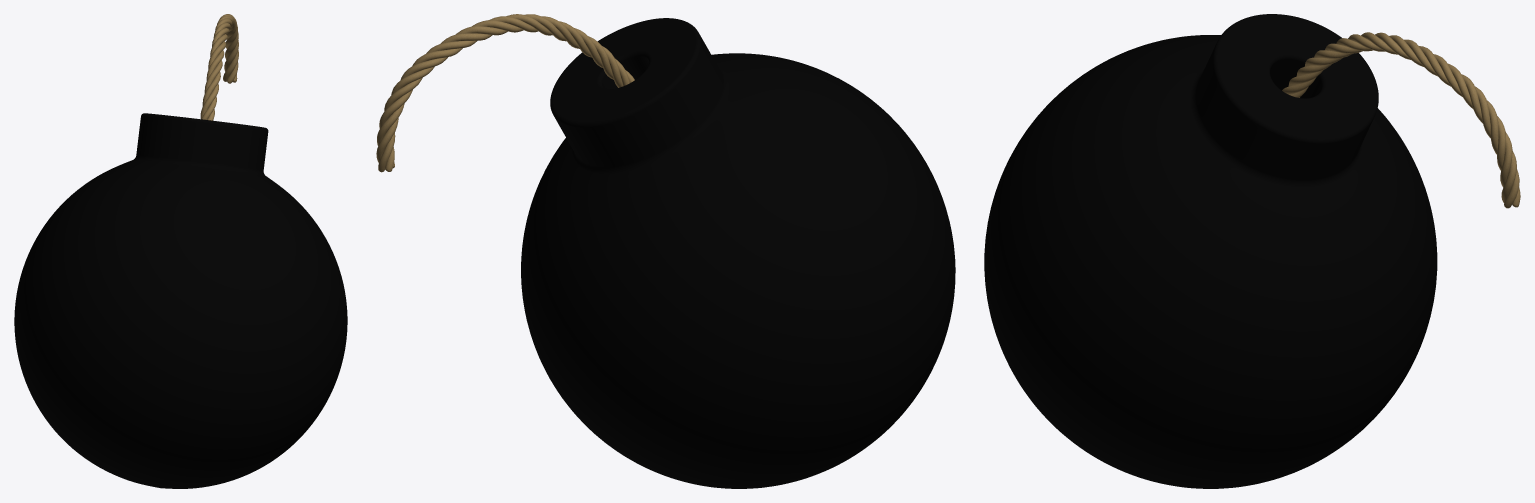
The model's file is bomb.glb.
3 renders of one model, left to right at view 1: azimuth 30°, elevation 25°; view 2: azimuth 150°, elevation 25°; view 3: azimuth 270°, elevation 25°, orthographic. The views are drawn at different scales.
Parts seen in each view (by area): view 1: Sphere_0, Circle_1; view 2: Sphere_0, Circle_1; view 3: Sphere_0, Circle_1.
Boxes of the visible parts, <box> form: Sphere_0: <box>14,113,347,488</box>; Circle_1: <box>200,14,238,120</box>; Sphere_0: <box>521,18,955,488</box>; Circle_1: <box>376,14,634,172</box>; Sphere_0: <box>984,14,1437,488</box>; Circle_1: <box>1282,32,1520,208</box>.
Bounding box in the file's own units: 2.13 × 2.43 × 2.34.
2 materials, 1 textured.
